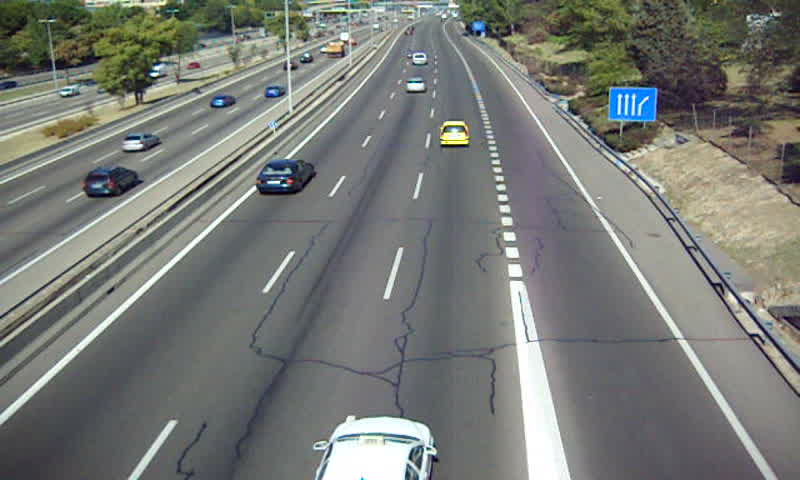car: (254, 159, 314, 195), (440, 121, 470, 147), (406, 76, 426, 94), (412, 51, 427, 64)
